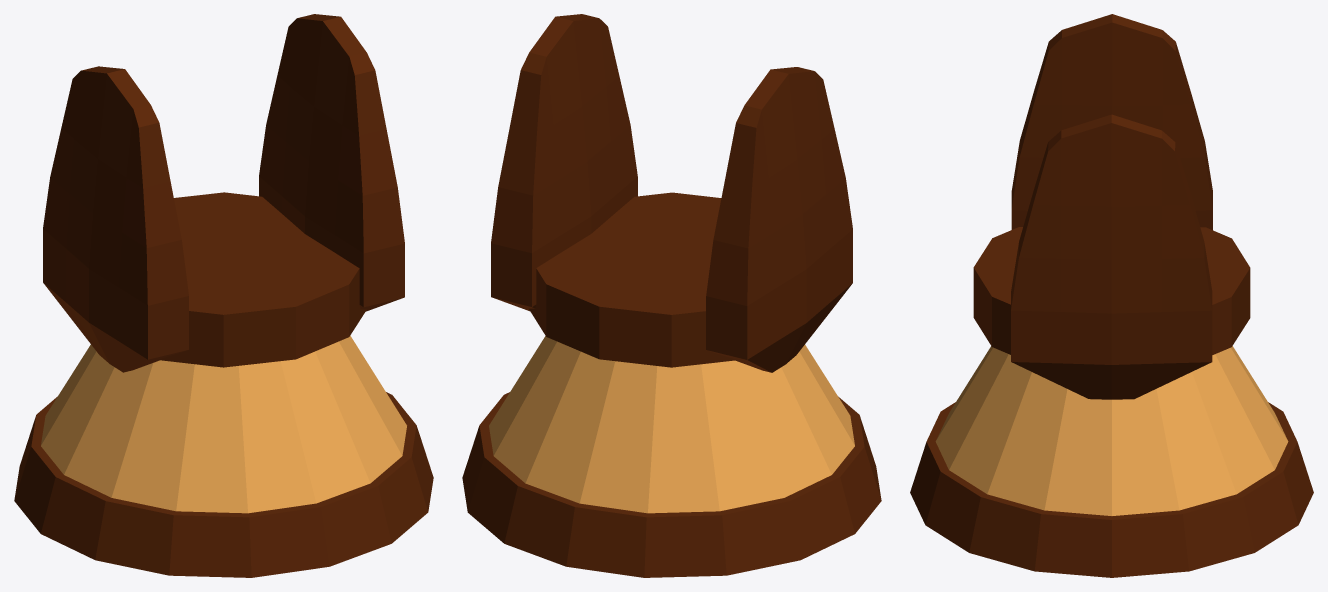
The model's file is mısıratarlevel1.fbx.
3 renders of one model, left to right at view 1: azimuth 30°, elevation 25°; view 2: azimuth 150°, elevation 25°; view 3: azimuth 270°, elevation 25°, orthographic. The views are drawn at different scales.
Visible parts, largest first — view 1: Cylinder, kurdanatar_alt.013; view 2: Cylinder, kurdanatar_alt.013; view 3: Cylinder, kurdanatar_alt.013.
Part boxes in pixels (left/top/right/bottom): Cylinder: left=43, top=14, right=404, bottom=372; kurdanatar_alt.013: left=14, top=335, right=433, bottom=577; Cylinder: left=491, top=14, right=852, bottom=372; kurdanatar_alt.013: left=462, top=336, right=881, bottom=577; Cylinder: left=973, top=14, right=1250, bottom=399; kurdanatar_alt.013: left=910, top=346, right=1313, bottom=577.
Bounding box in the file's own units: 200 × 234 × 200.
Materials: 4 (4 with a texture image).
